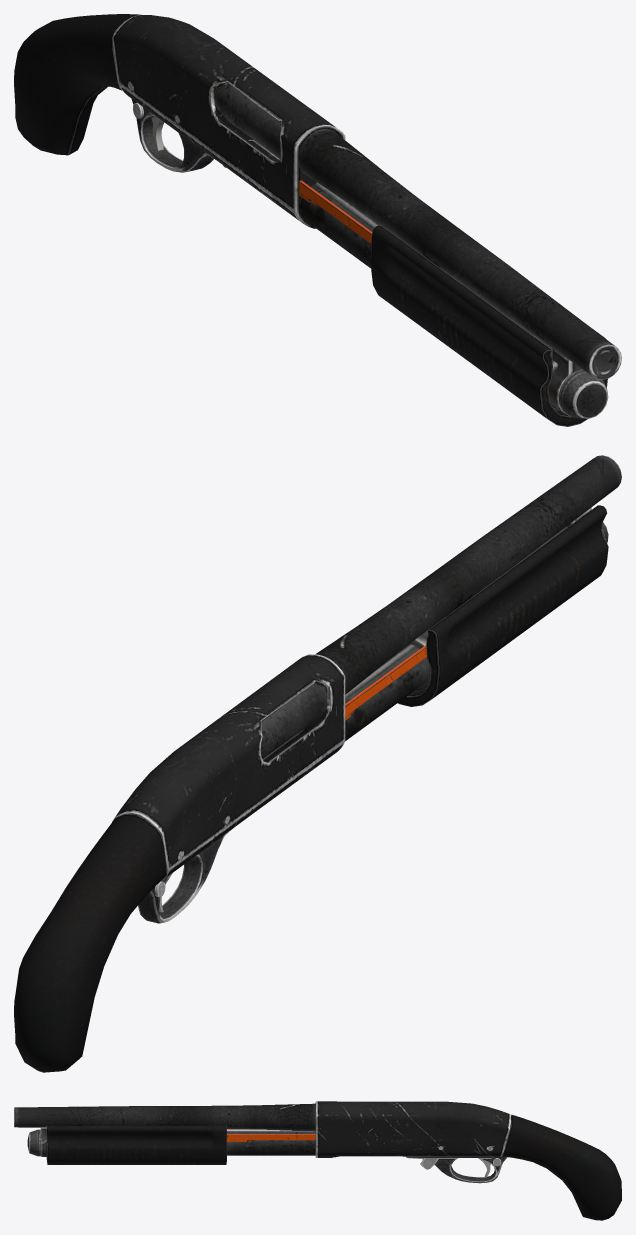
The model's file is Shotgun.fbx.
3 views of the same model, one above another, from view 1: azimuth 30°, elevation 25°; view 2: azimuth 150°, elevation 25°; view 3: azimuth 270°, elevation 25° (orthographic). The views are drawn at different scales.
Parts seen in each view (by area): view 1: SM_Shotgun; view 2: SM_Shotgun; view 3: SM_Shotgun.
Part boxes in pixels (x1,y1,x2,y2): SM_Shotgun: (14, 14, 621, 426); SM_Shotgun: (14, 455, 621, 1072); SM_Shotgun: (14, 1101, 621, 1220).
Bounding box in the file's own units: 5.69 × 17.33 × 83.01.
